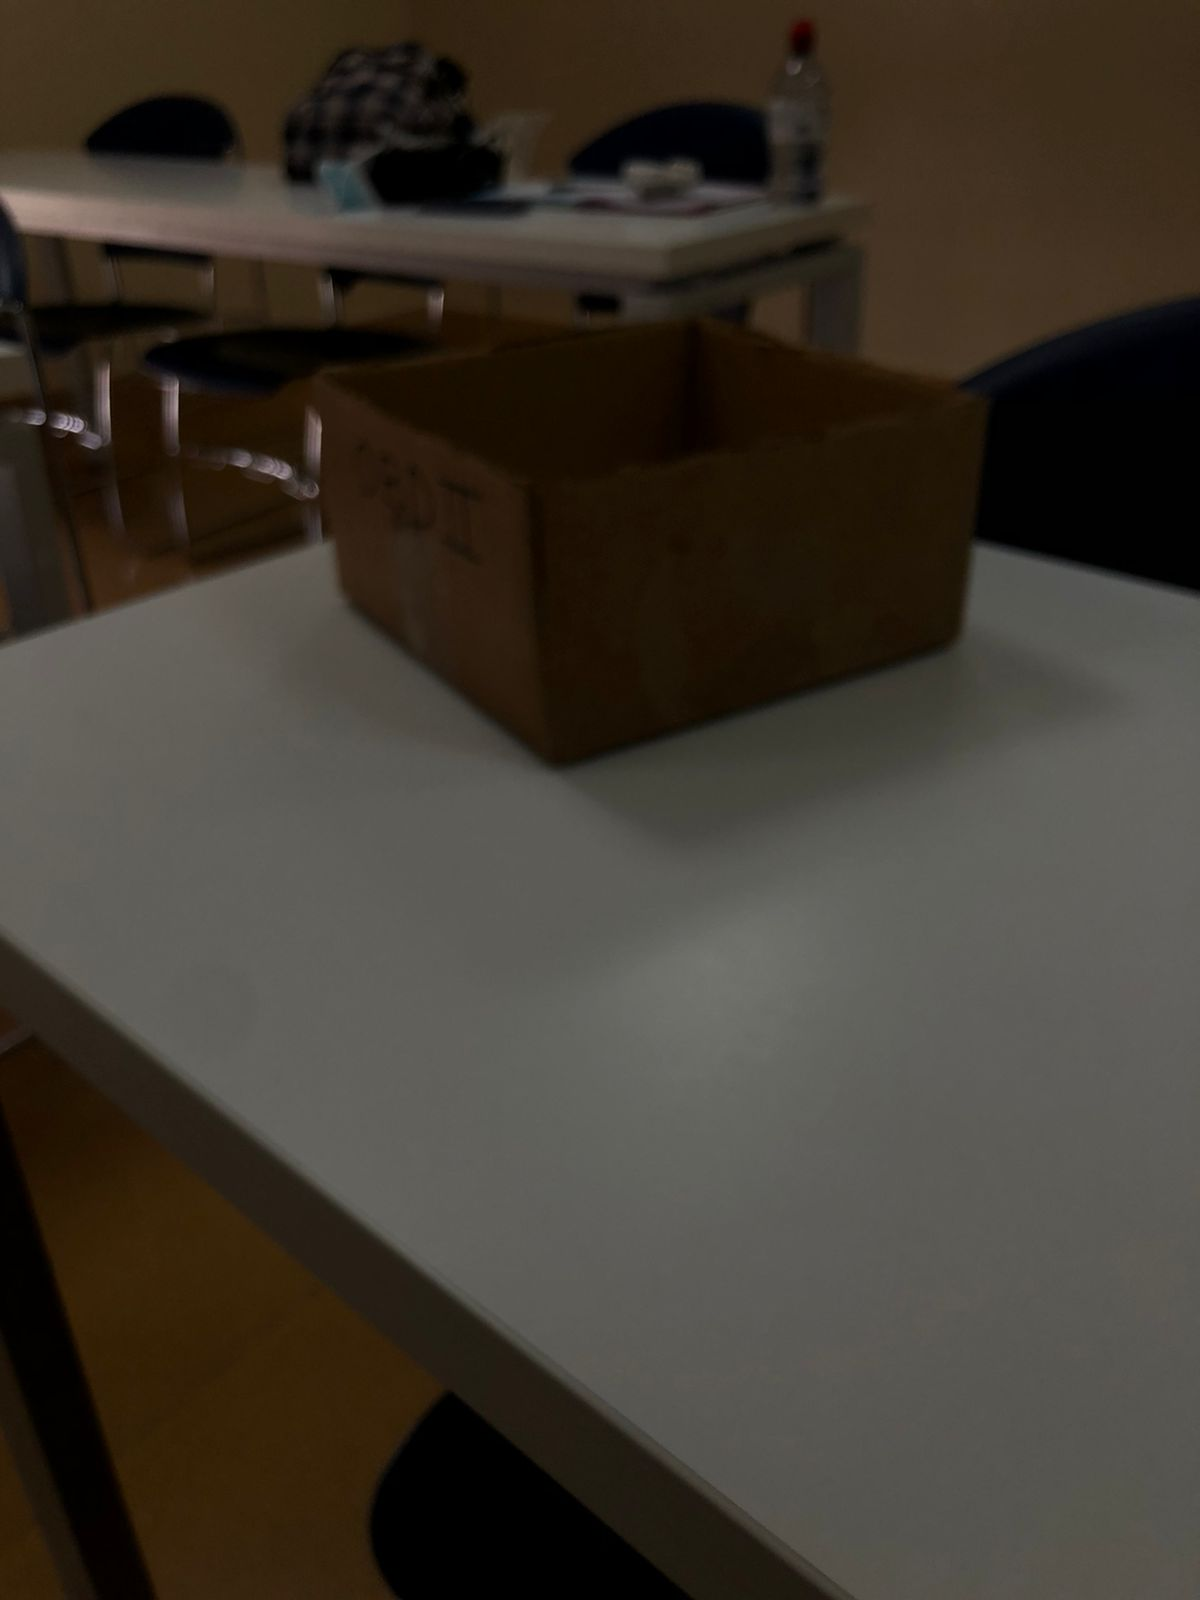CBox: (304, 309, 1002, 769)
